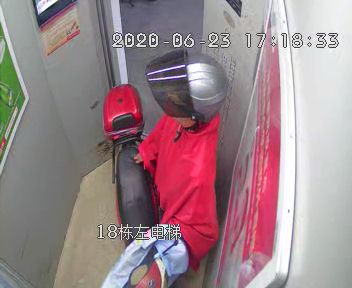Electric-bicycle: (100, 81, 179, 288)
